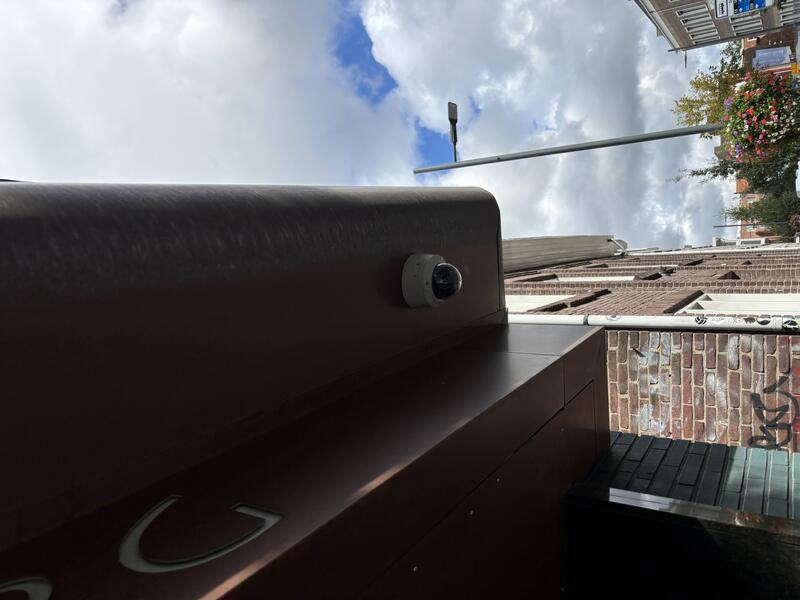dome: (287, 397, 352, 475)
